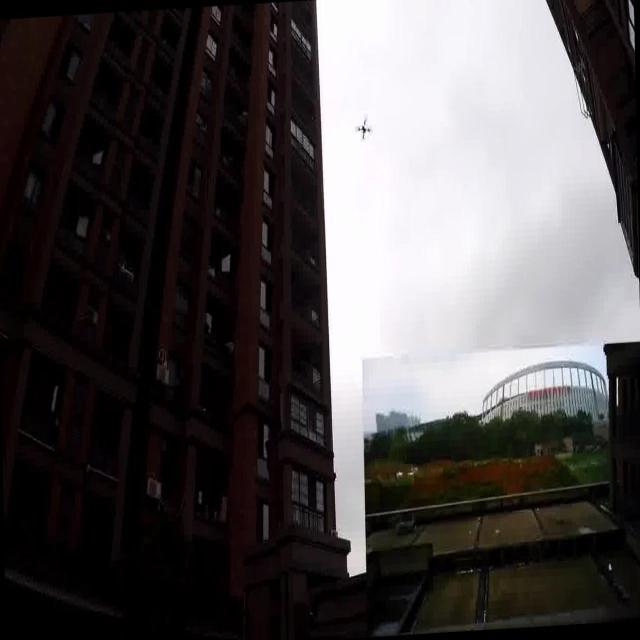drone: (355, 109, 376, 145)
